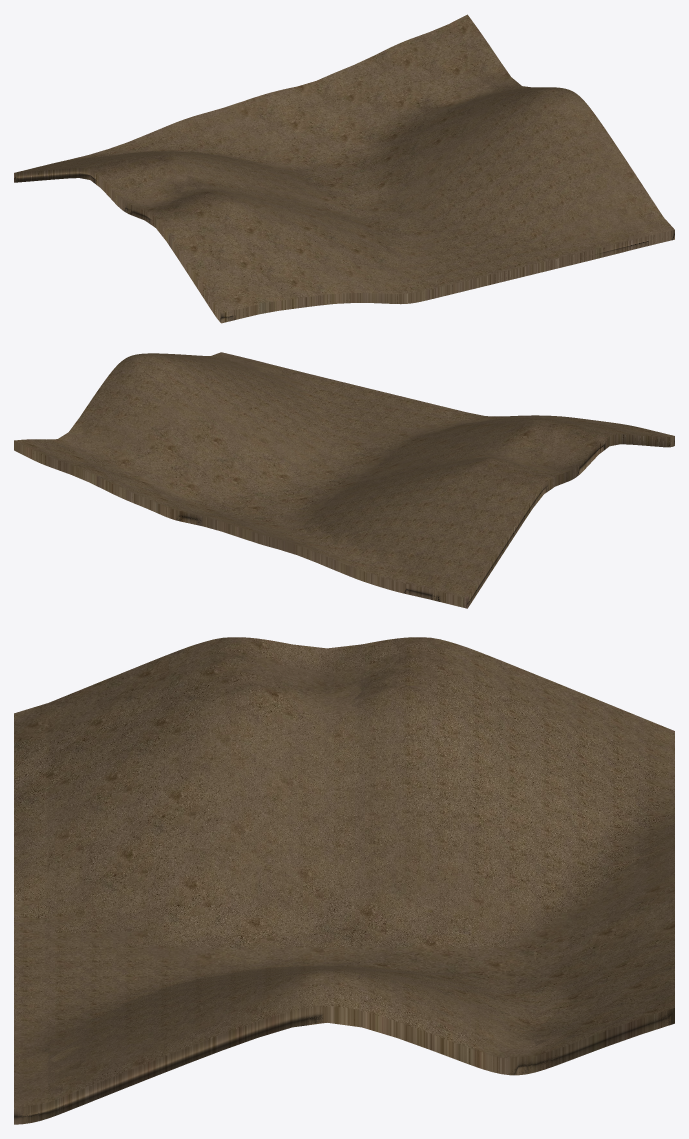
The model's file is chunk_1_5.glb.
The picture shows the model from 3 angles, top to bottom: view 1: azimuth 30°, elevation 25°; view 2: azimuth 150°, elevation 25°; view 3: azimuth 270°, elevation 25°; orthographic projection. The views are drawn at different scales.
Parts seen in each view (by area): view 1: Terrain_L0, Terrain_L2, Terrain_L1; view 2: Terrain_L0, Terrain_L2, Terrain_L1; view 3: Terrain_L0, Terrain_L2, Terrain_L1.
Boxes of the visible parts, x1,y1,x2,y2 form: Terrain_L0: [14, 14, 674, 323]; Terrain_L2: [14, 15, 674, 321]; Terrain_L1: [14, 15, 665, 322]; Terrain_L0: [14, 353, 674, 608]; Terrain_L2: [14, 352, 674, 608]; Terrain_L1: [14, 355, 662, 607]; Terrain_L0: [14, 637, 674, 1124]; Terrain_L2: [14, 640, 674, 1124]; Terrain_L1: [14, 637, 674, 1124].
Size of the model in its own units: 96 by 17.32 by 76.01.
Materials: 1 (1 with a texture image).
